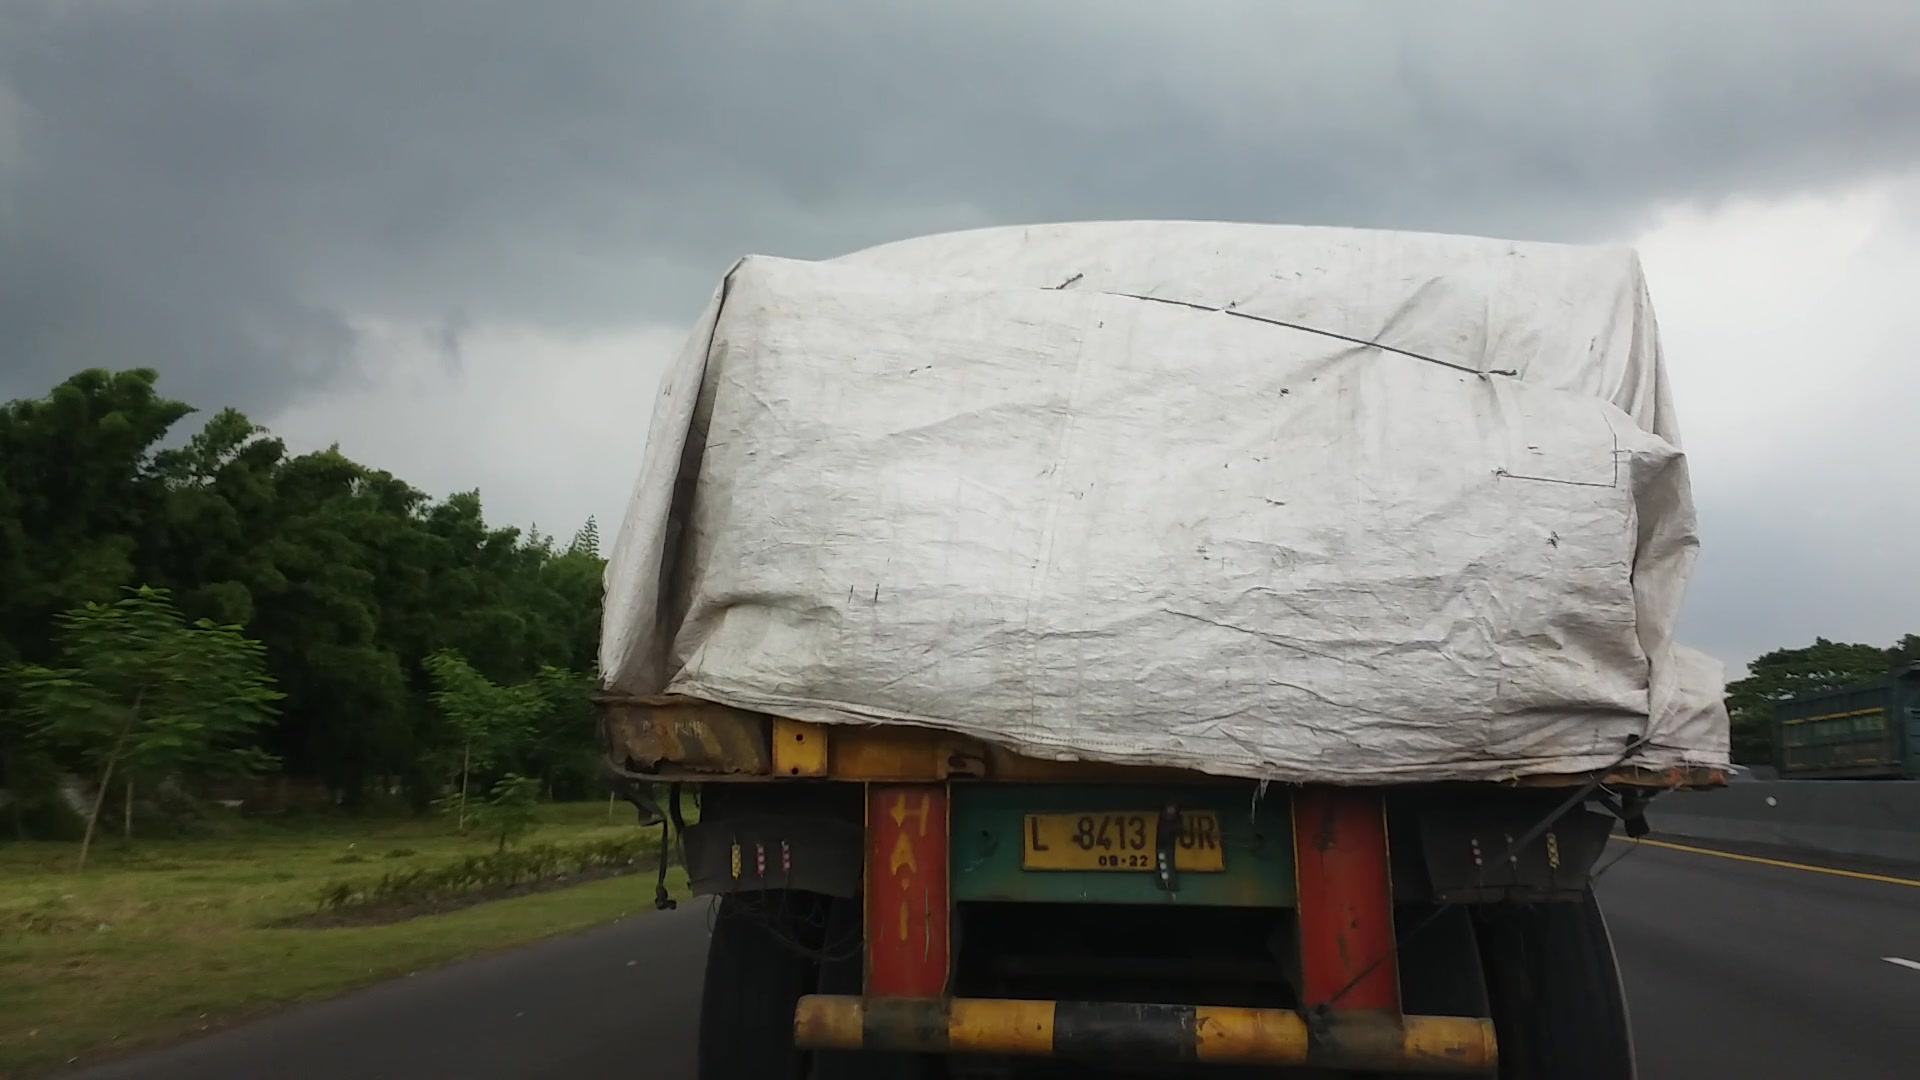plate_positive: (1023, 808, 1222, 873)
